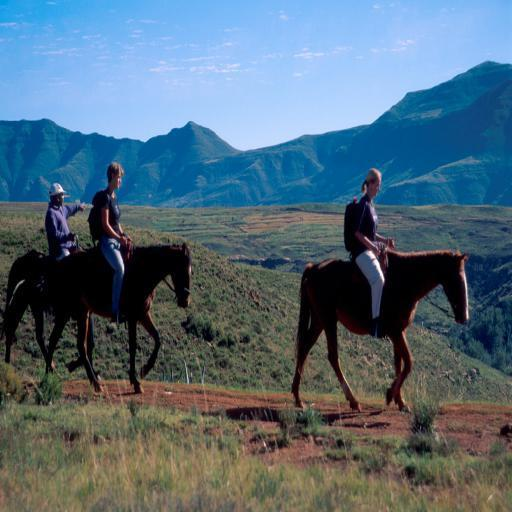horse: (290, 246, 468, 409), (46, 242, 193, 394), (0, 245, 94, 378)
